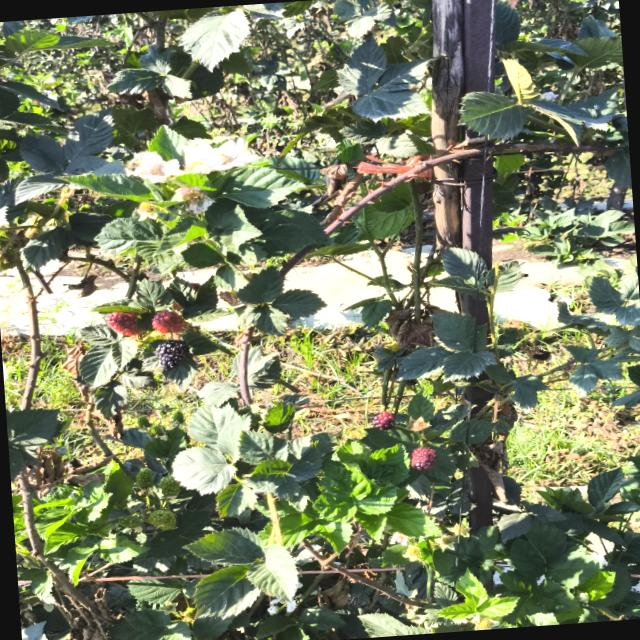maduro: (155, 339, 189, 369)
marron: (410, 447, 436, 470), (371, 411, 394, 430)
naranja: (152, 309, 183, 333), (105, 312, 137, 335)
